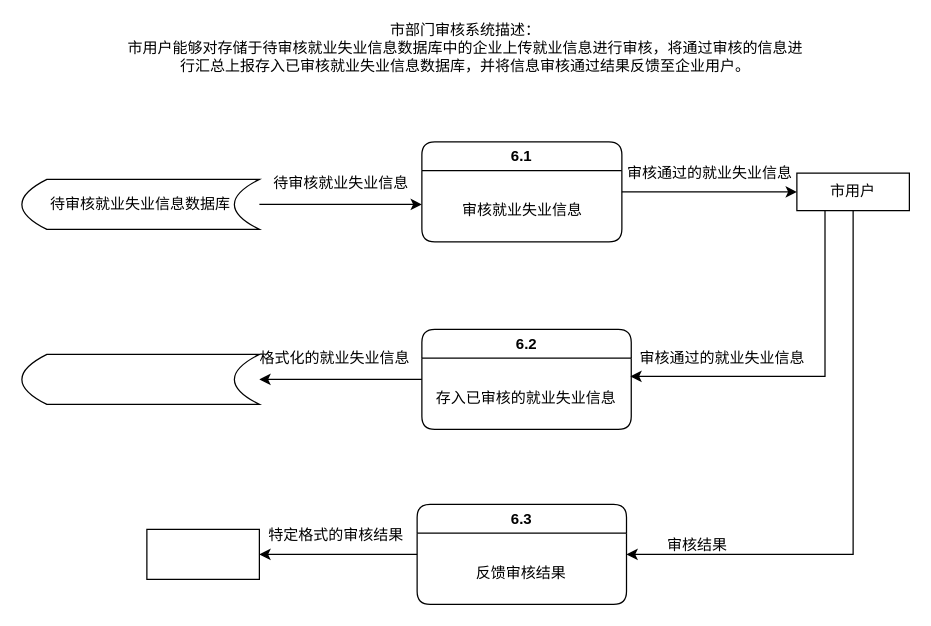
Some shapes in this 931 by 626 pixel diagram are drawn without their labels. Here are the shapes that lost their labels. From the top down, the centre of each, then its label:
(140,378): 已审核就业失业信息数据库
(202,553): 企业用户
